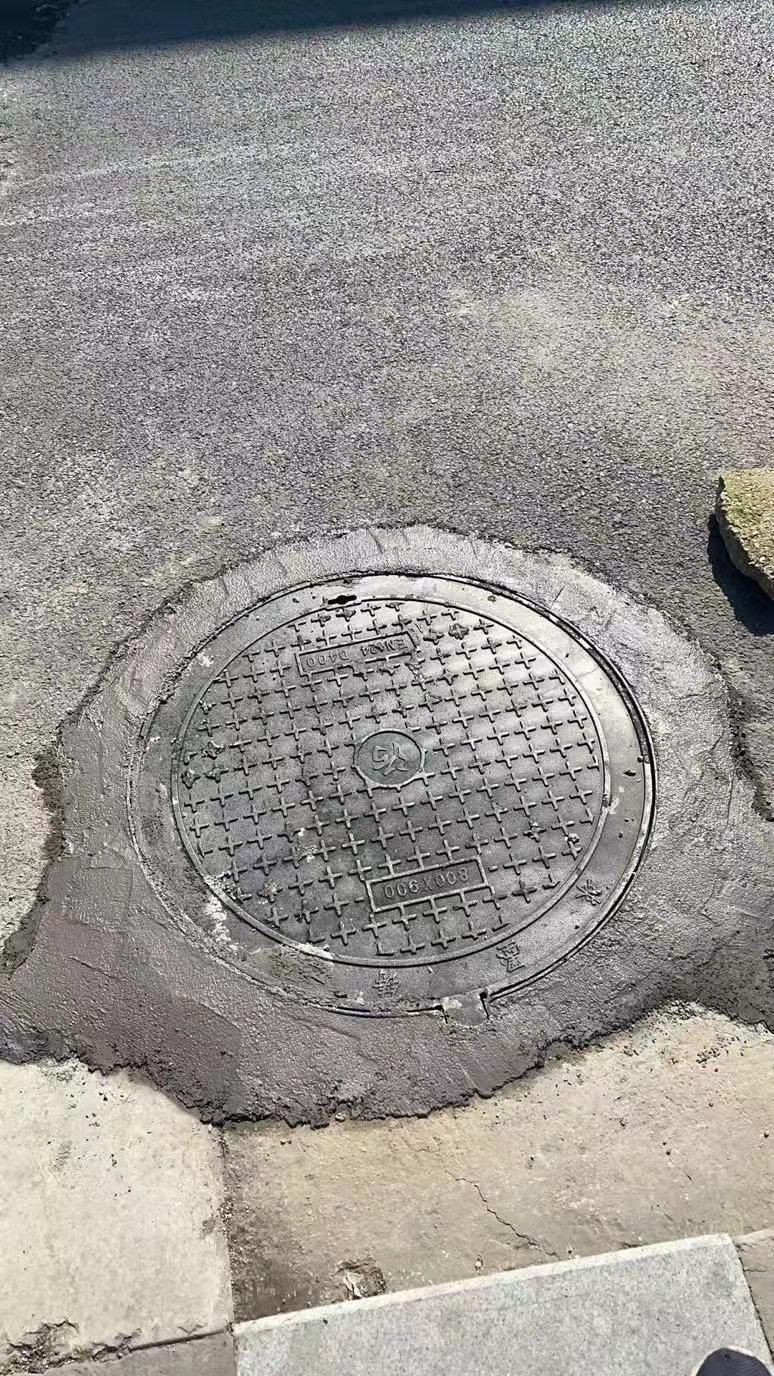good: (24, 492, 736, 1120)
